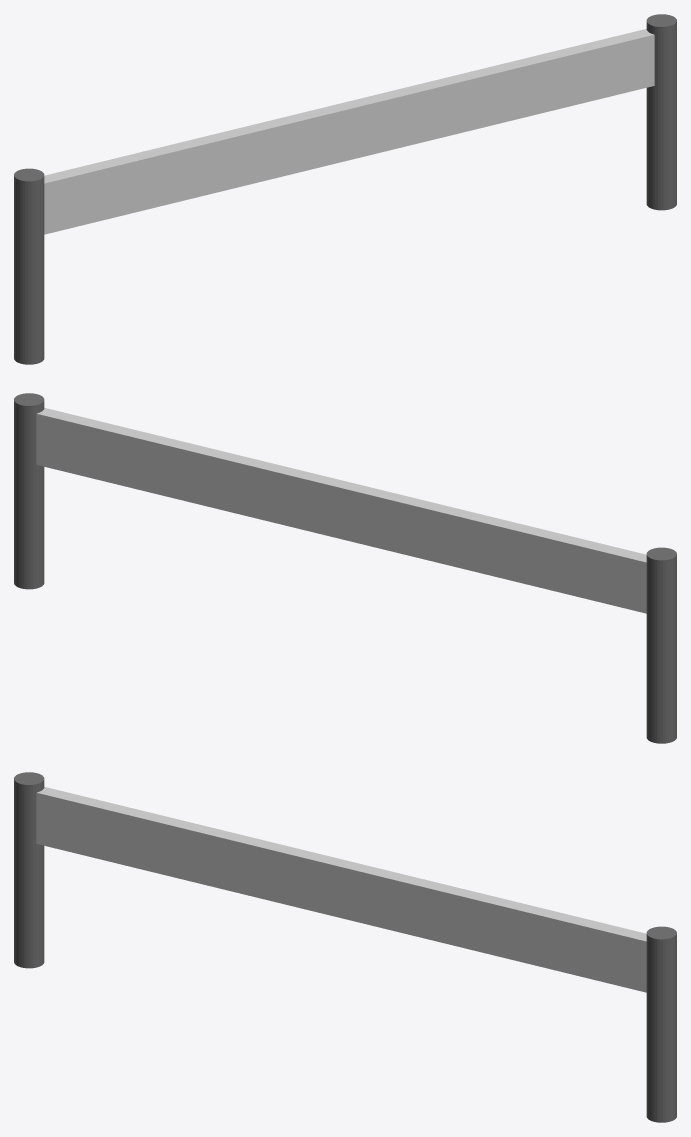
File: goal.fbx
3 views of the same model, one above another, from view 1: azimuth 30°, elevation 25°; view 2: azimuth 150°, elevation 25°; view 3: azimuth 330°, elevation 25° (orthographic).
Visible parts, largest first — view 1: Cube, Cylinder.001; view 2: Cube, Cylinder.001; view 3: Cube, Cylinder.001.
Boxes of the visible parts, x1,y1,x2,y2 form: Cube: (44,29,654,234); Cylinder.001: (14,14,676,364); Cube: (36,408,646,613); Cylinder.001: (14,393,676,743); Cube: (36,787,646,992); Cylinder.001: (14,772,676,1122).
Size of the model in its own units: 2197 by 584 by 87.97.
2 materials, 1 textured.
